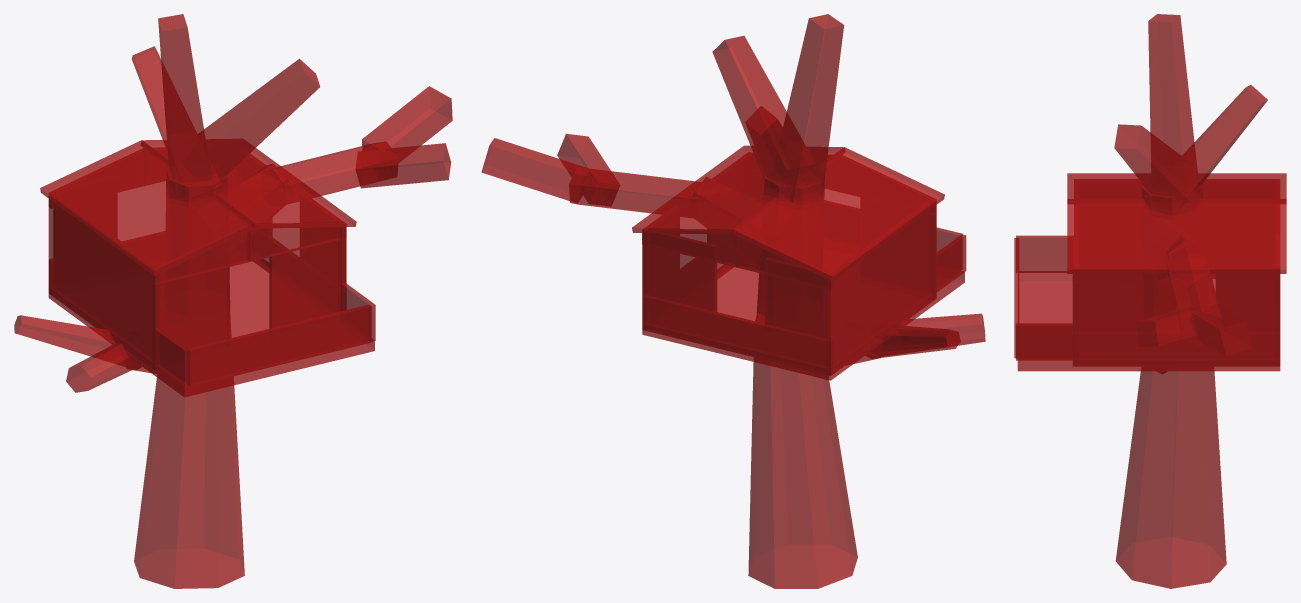
File: SM_Env_Tree_Large_01_Collision.fbx
The picture shows the model from 3 angles, left to right: view 1: azimuth 30°, elevation 25°; view 2: azimuth 150°, elevation 25°; view 3: azimuth 270°, elevation 25°; orthographic projection. The views are drawn at different scales.
Visible parts, largest first — view 1: SM_Env_Tree_Large_01_Treehouse_Collision, SM_Env_Tree_Large_01_Collision; view 2: SM_Env_Tree_Large_01_Collision, SM_Env_Tree_Large_01_Treehouse_Collision; view 3: SM_Env_Tree_Large_01_Treehouse_Collision, SM_Env_Tree_Large_01_Collision.
Part boxes in pixels (bbox=[...]): SM_Env_Tree_Large_01_Treehouse_Collision: bbox=[40, 139, 375, 397]; SM_Env_Tree_Large_01_Collision: bbox=[14, 14, 452, 588]; SM_Env_Tree_Large_01_Collision: bbox=[481, 14, 985, 588]; SM_Env_Tree_Large_01_Treehouse_Collision: bbox=[632, 145, 966, 380]; SM_Env_Tree_Large_01_Treehouse_Collision: bbox=[1014, 173, 1286, 371]; SM_Env_Tree_Large_01_Collision: bbox=[1114, 14, 1267, 588].
Bounding box in the file's own units: 719 × 841 × 384.
